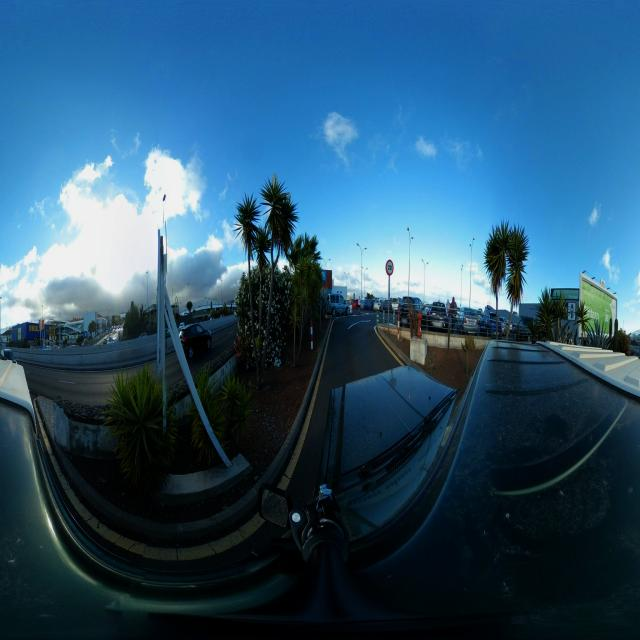car: (177, 321, 213, 355), (427, 304, 451, 334), (458, 307, 480, 336), (328, 291, 350, 317), (397, 300, 417, 328)
